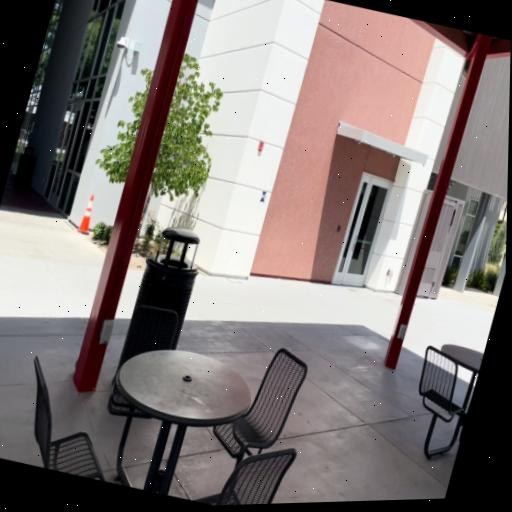target9: (260, 191, 268, 202)
